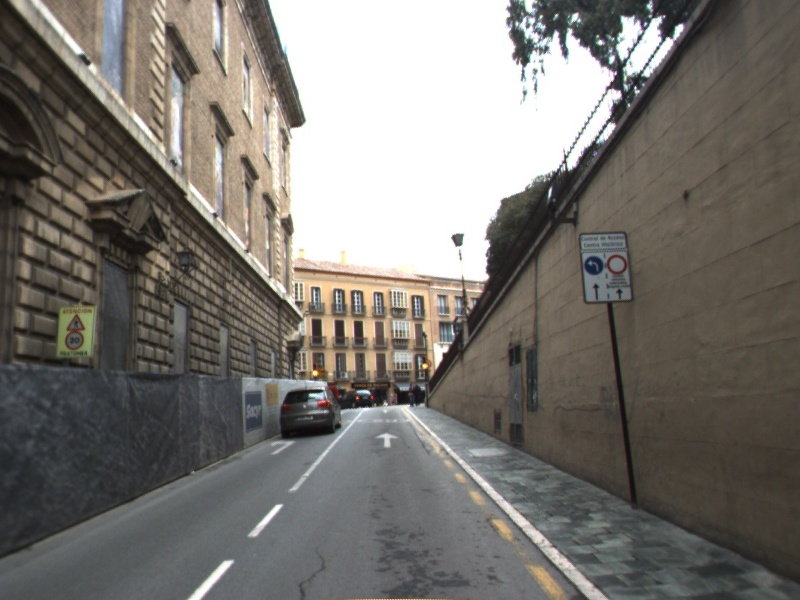LEFT: (268, 437, 299, 457)
STRAIGHT: (373, 430, 401, 450)
